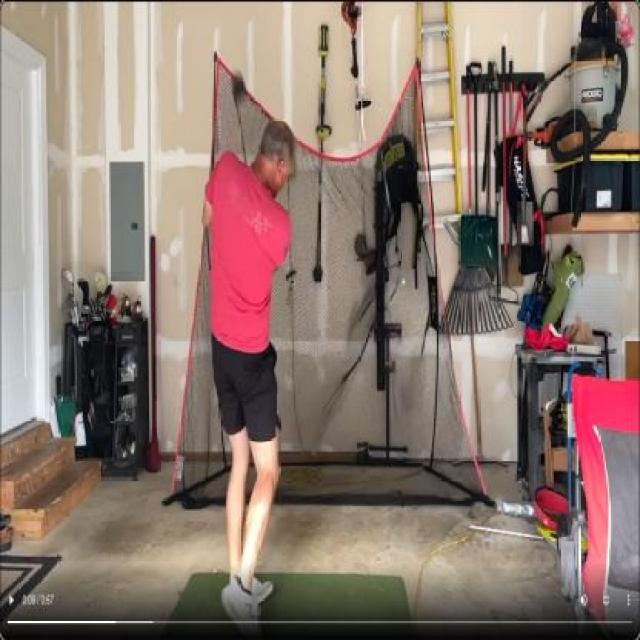club head: (228, 70, 247, 108)
